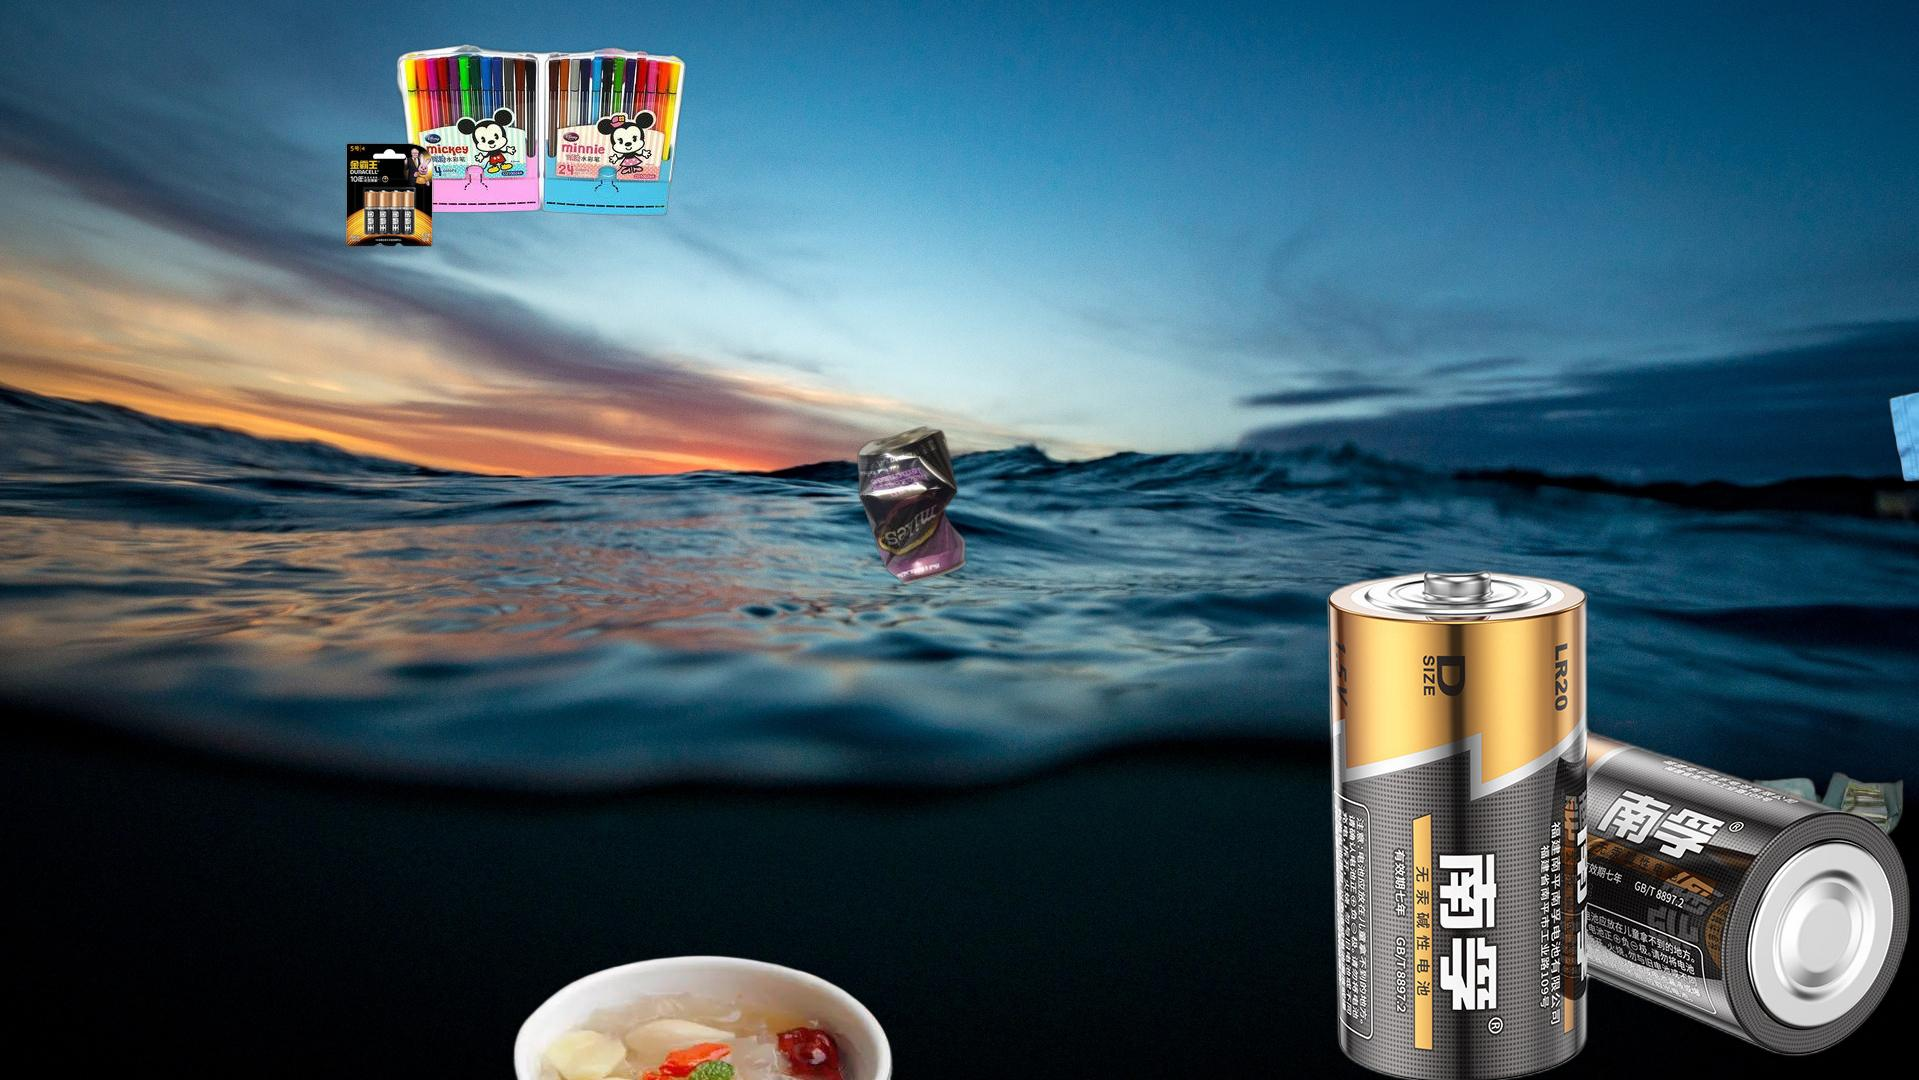battery: (1319, 563, 1916, 1080), (343, 140, 436, 249)
biological: (509, 952, 898, 1080)
clothes: (1887, 357, 1919, 686)
metal-cans: (854, 423, 970, 588)
penholder: (397, 42, 689, 218)
trash: (1680, 769, 1905, 964)
